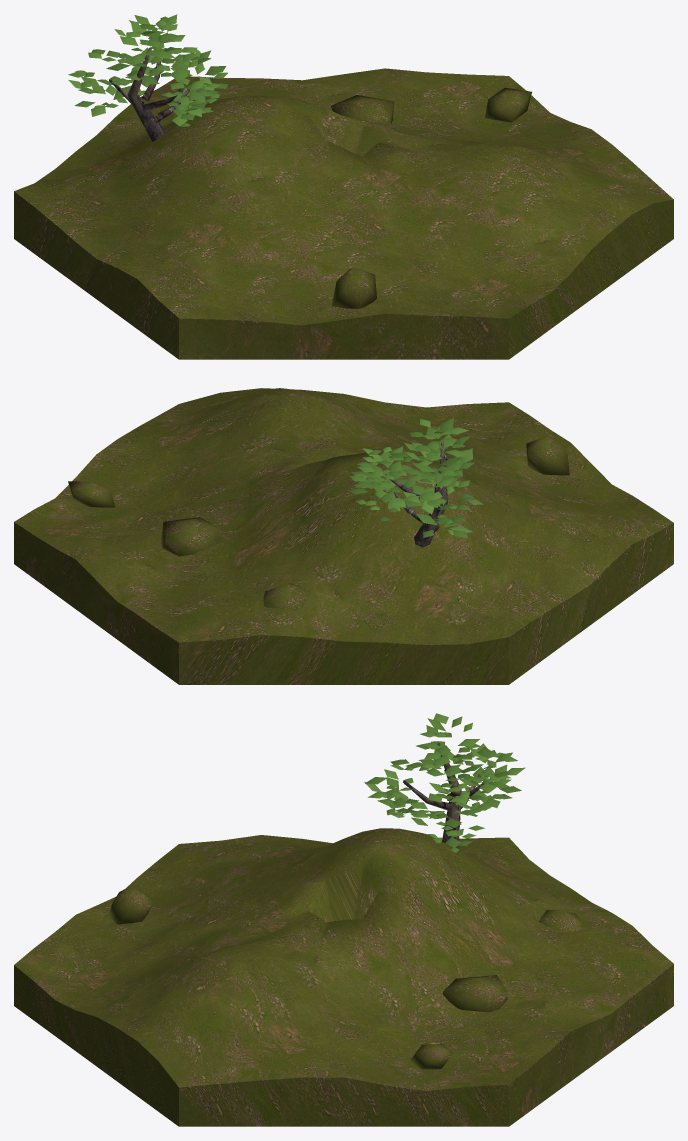
Rendered from env-terrain-hills-mobile.glb.
The picture shows the model from 3 angles, top to bottom: view 1: azimuth 30°, elevation 25°; view 2: azimuth 150°, elevation 25°; view 3: azimuth 270°, elevation 25°; orthographic projection.
Visible parts, largest first — view 1: terrain hills · authored textured miniature; view 2: terrain hills · authored textured miniature; view 3: terrain hills · authored textured miniature.
Boxes of the visible parts, x1,y1,x2,y2 form: terrain hills · authored textured miniature: (14,14,673,359); terrain hills · authored textured miniature: (14,388,673,684); terrain hills · authored textured miniature: (14,713,673,1126).
Size of the model in its own units: 1.63 by 0.6718 by 1.88.
3 materials, 2 textured.
